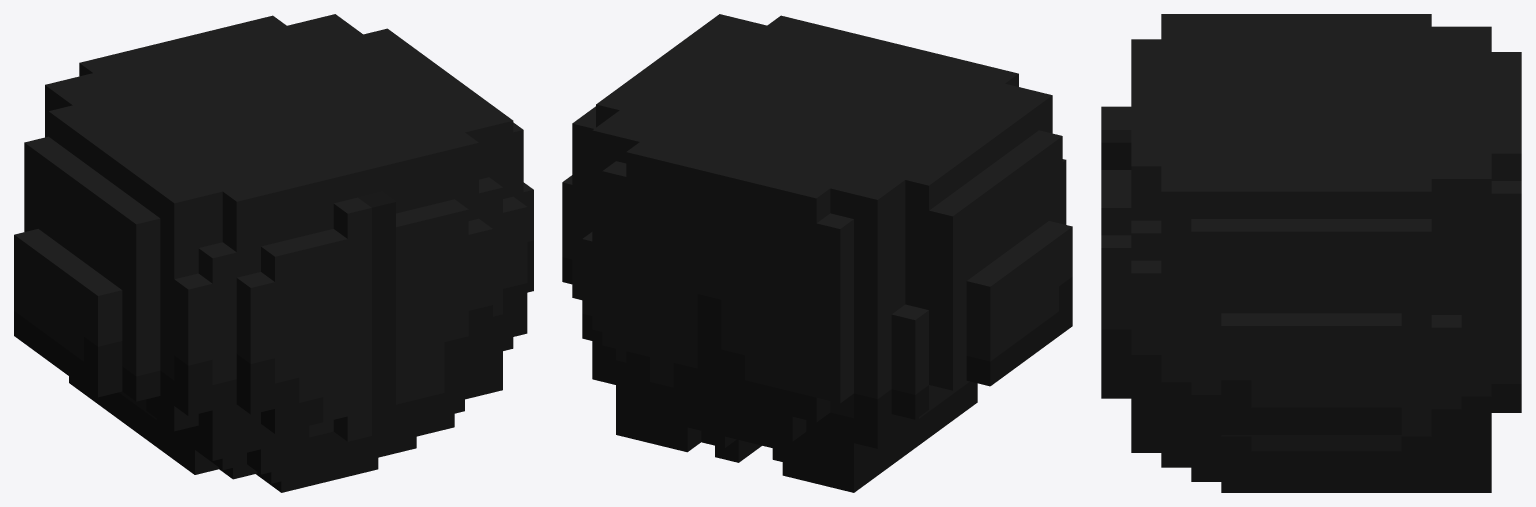
File: pelvis.obj
The picture shows the model from 3 angles, left to right: view 1: azimuth 30°, elevation 25°; view 2: azimuth 150°, elevation 25°; view 3: azimuth 270°, elevation 25°; orthographic projection. The views are drawn at different scales.
Bounding box in the file's own units: 1.8 × 1.3 × 1.4.
1 material, 1 textured.
